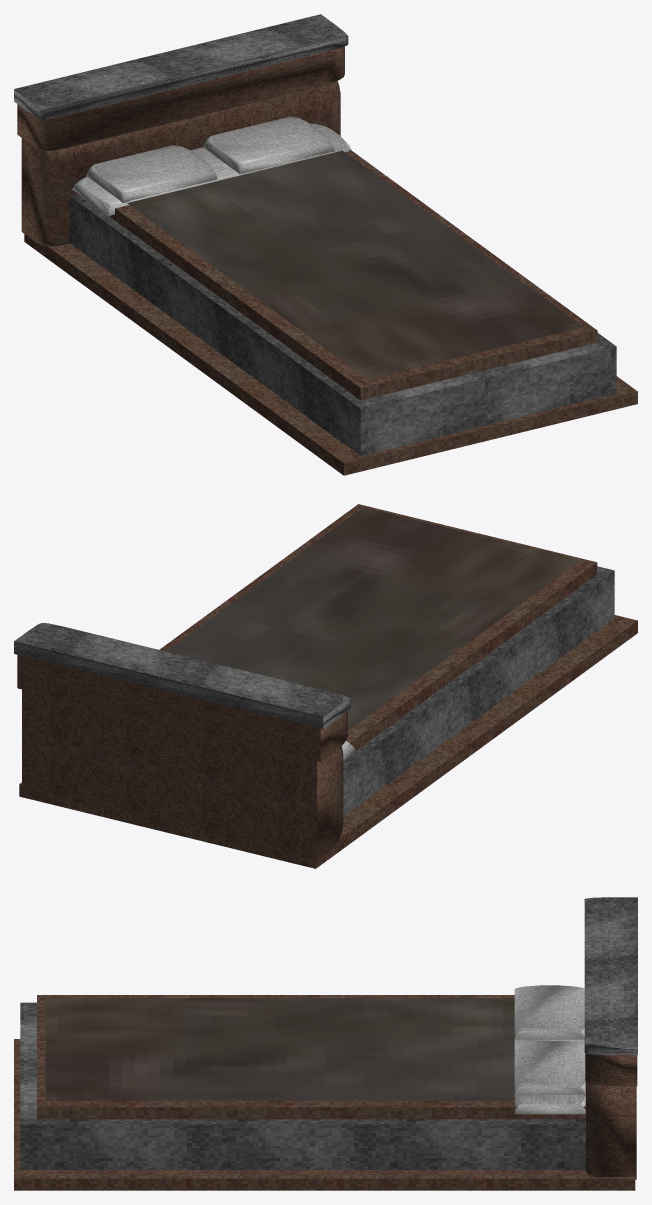
The model's file is bed2.glb.
3 renders of one model, top to bottom at view 1: azimuth 30°, elevation 25°; view 2: azimuth 150°, elevation 25°; view 3: azimuth 270°, elevation 25°, orthographic. The views are drawn at different scales.
Parts seen in each view (by area): view 1: Plane001, Box002, Box001, Box003, Box007, Box005, Box006, Box009, Box008, Box004; view 2: Plane001, Box005, Box002, Box007, Box001, Box006, Box003; view 3: Plane001, Box002, Box001, Box003, Box007, Box005, Box008, Box009, Box006, Box004.
Boxes of the visible parts, x1=… form: Plane001: x1=127, y1=150, x2=582, y2=379; Box002: x1=69, y1=194, x2=616, y2=455; Box001: x1=24, y1=234, x2=637, y2=475; Box003: x1=109, y1=149, x2=597, y2=400; Box007: x1=14, y1=14, x2=348, y2=119; Box005: x1=21, y1=81, x2=340, y2=246; Box006: x1=17, y1=46, x2=344, y2=150; Box009: x1=203, y1=116, x2=334, y2=174; Box008: x1=86, y1=145, x2=217, y2=202; Box004: x1=72, y1=123, x2=351, y2=215; Plane001: x1=166, y1=507, x2=580, y2=730; Box005: x1=22, y1=689, x2=343, y2=859; Box002: x1=343, y1=566, x2=614, y2=816; Box007: x1=14, y1=623, x2=350, y2=729; Box001: x1=19, y1=615, x2=637, y2=868; Box006: x1=17, y1=655, x2=347, y2=762; Box003: x1=159, y1=504, x2=597, y2=750; Plane001: x1=45, y1=998, x2=514, y2=1100; Box002: x1=20, y1=1002, x2=585, y2=1169; Box001: x1=14, y1=1039, x2=635, y2=1190; Box003: x1=37, y1=995, x2=585, y2=1119; Box007: x1=584, y1=897, x2=637, y2=1054; Box005: x1=586, y1=1082, x2=636, y2=1179; Box008: x1=514, y1=985, x2=584, y2=1039; Box009: x1=514, y1=1041, x2=585, y2=1095; Box006: x1=585, y1=1053, x2=637, y2=1086; Box004: x1=514, y1=1039, x2=585, y2=1114.
Bounding box in the file's own units: 1.08 × 0.5191 × 1.96.
4 materials, 4 textured.
